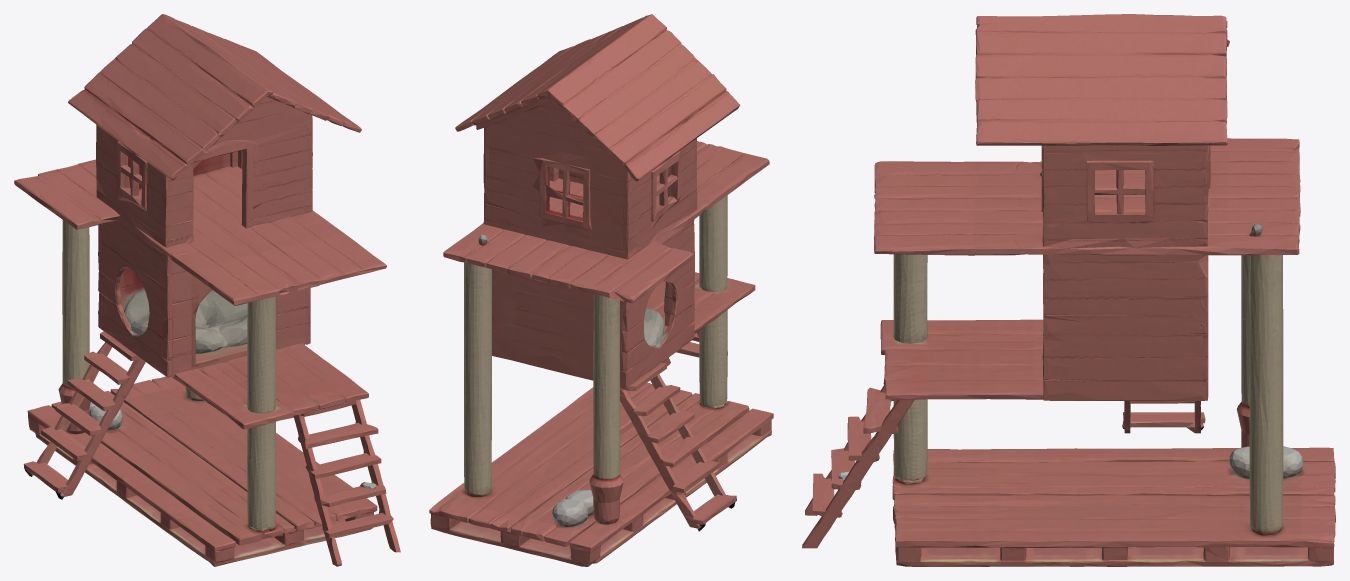
Rendered from DOM_kotik_4__third.glb.
3 renders of one model, left to right at view 1: azimuth 30°, elevation 25°; view 2: azimuth 150°, elevation 25°; view 3: azimuth 270°, elevation 25°, orthographic. The views are drawn at different scales.
Parts seen in each view (by area): view 1: tripo_node_e78e3b15-10aa-4e15-b873-7541af457376; view 2: tripo_node_e78e3b15-10aa-4e15-b873-7541af457376; view 3: tripo_node_e78e3b15-10aa-4e15-b873-7541af457376.
Boxes of the visible parts, bbox=[...] form: tripo_node_e78e3b15-10aa-4e15-b873-7541af457376: bbox=[14, 14, 400, 566]; tripo_node_e78e3b15-10aa-4e15-b873-7541af457376: bbox=[429, 14, 773, 566]; tripo_node_e78e3b15-10aa-4e15-b873-7541af457376: bbox=[802, 14, 1335, 566].
Bounding box in the file's own units: 0.5863 × 1 × 0.9474.
Materials: 1 (1 with a texture image).
